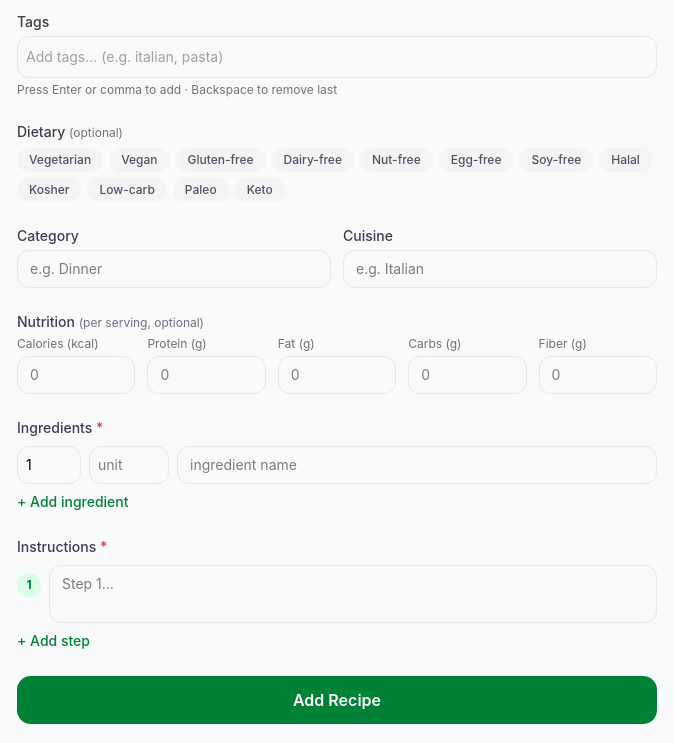
Scenario: RecipeFormPage › instruction list management › adds a new step when clicking "+ Add step"
The width and height of the screenshot is (674, 743).
(page scrolled)
Click the button "+ Add step" at {"x": 54, "y": 641}, box [17, 631, 90, 651]
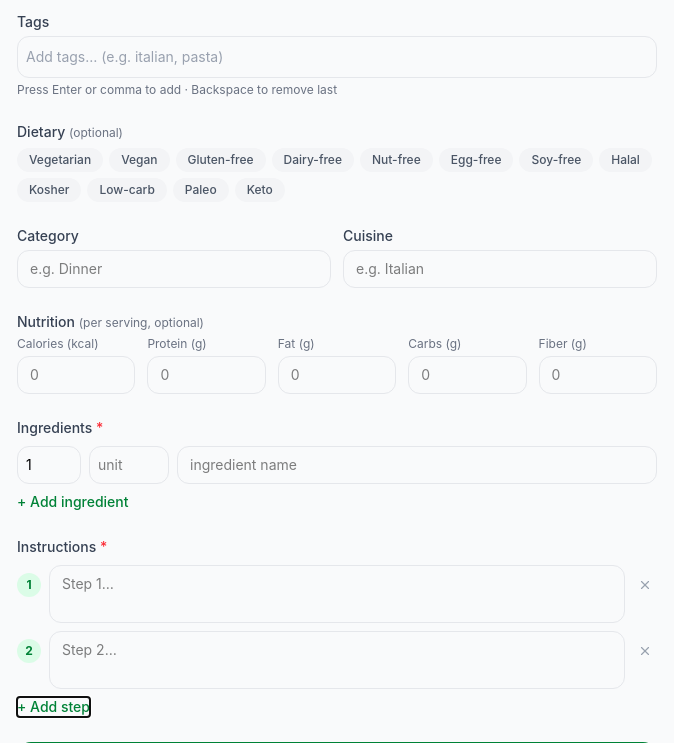
Expected: the text box with placeholder "Step 1…" is shown, [49, 565, 625, 623]
Now the text box with placeholder "Step 2…" is shown, box [49, 631, 625, 689]
